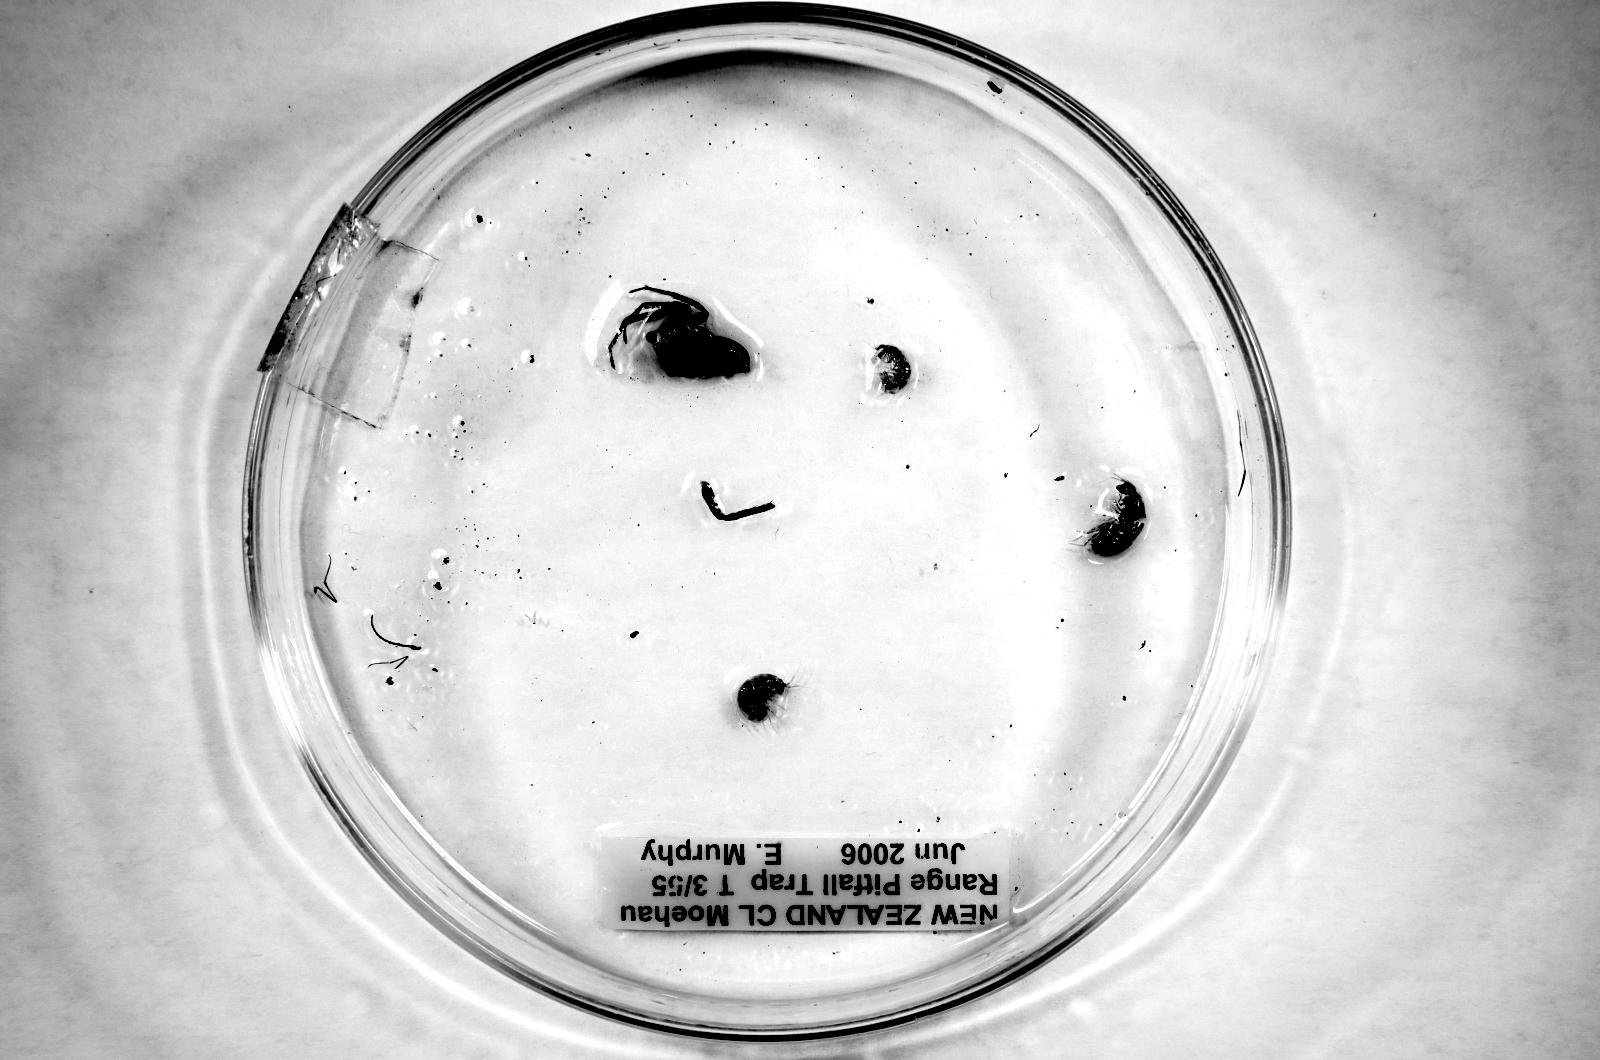amphipoda: (1084, 478, 1145, 555), (736, 673, 789, 722), (874, 344, 912, 394)
araneae: (608, 286, 750, 376)
